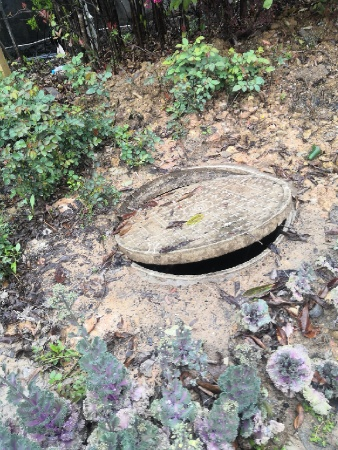uncovered: (111, 165, 292, 284)
